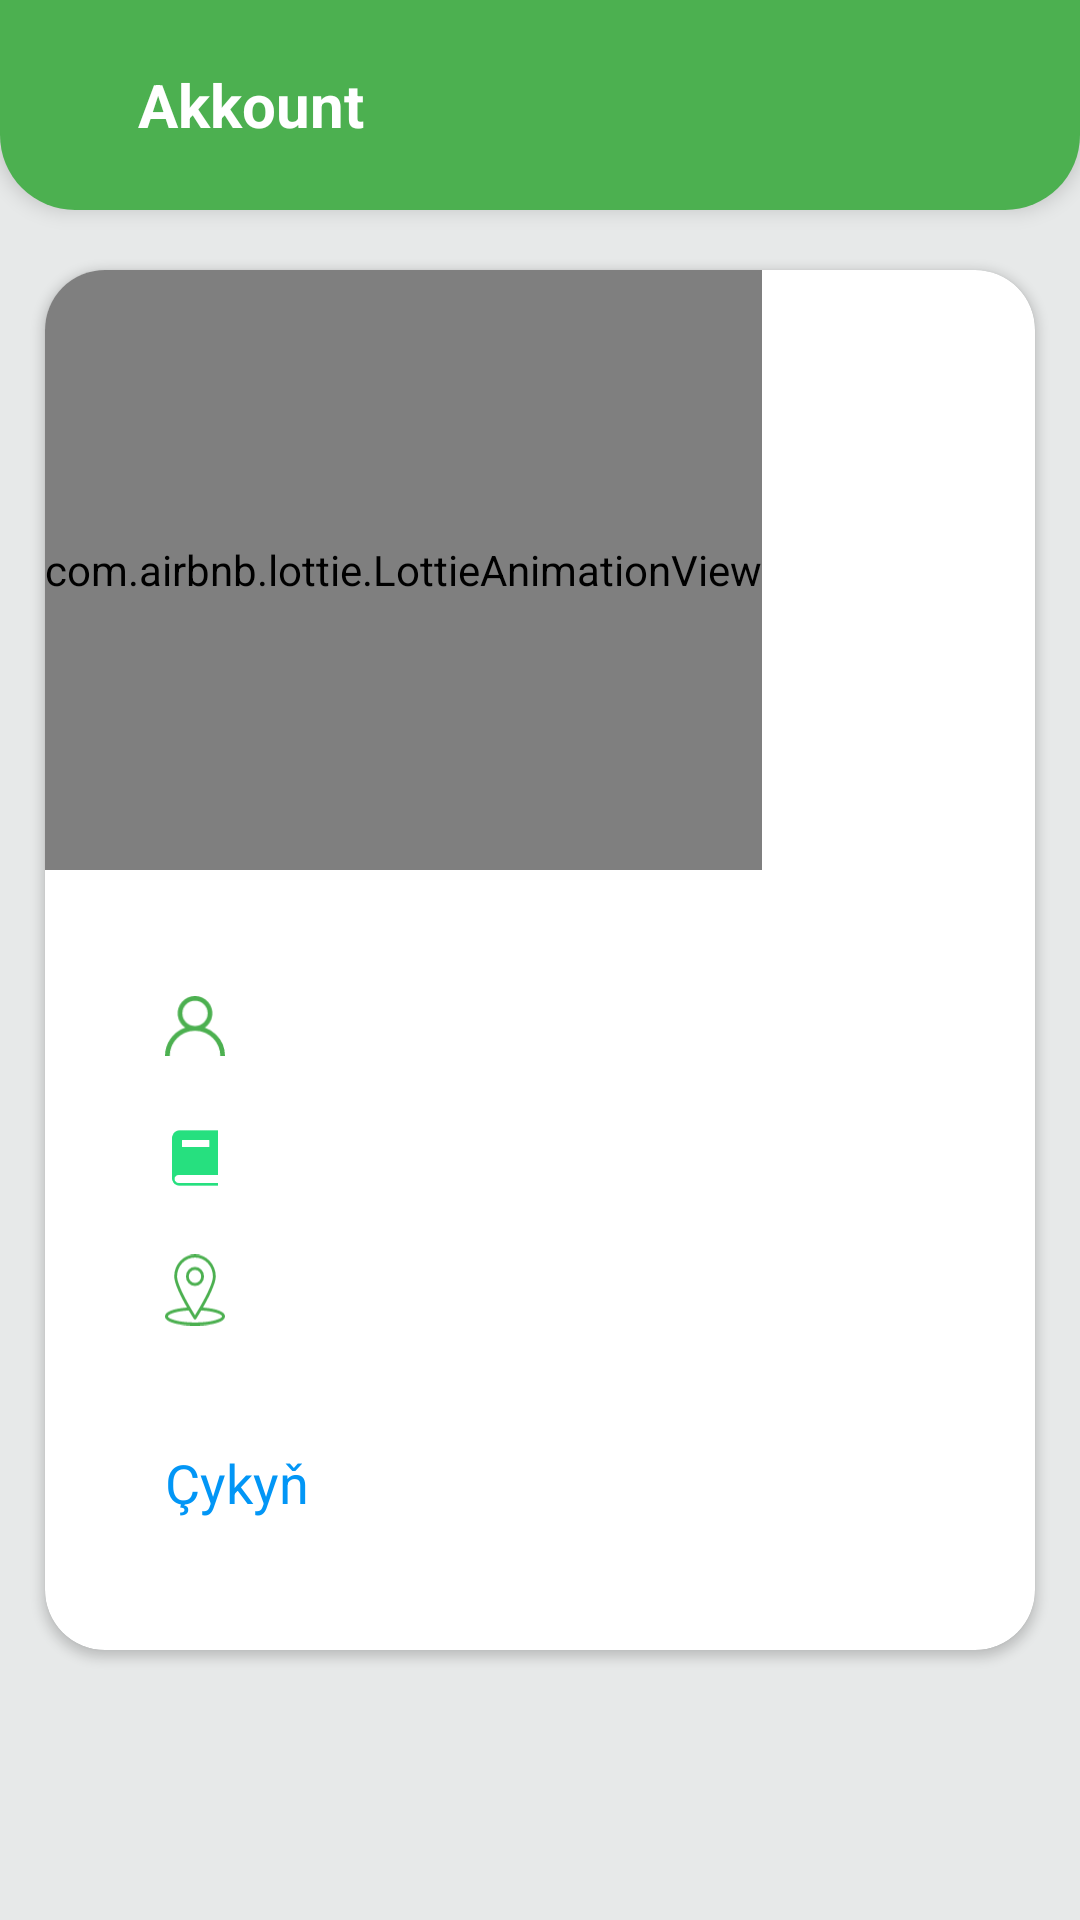

Icon bounding boxes for this 1080×1920 phone screenshot, format rect(x1, y1, x2, y2):
book: rect(172, 1130, 218, 1186)
user: rect(165, 996, 225, 1056)
